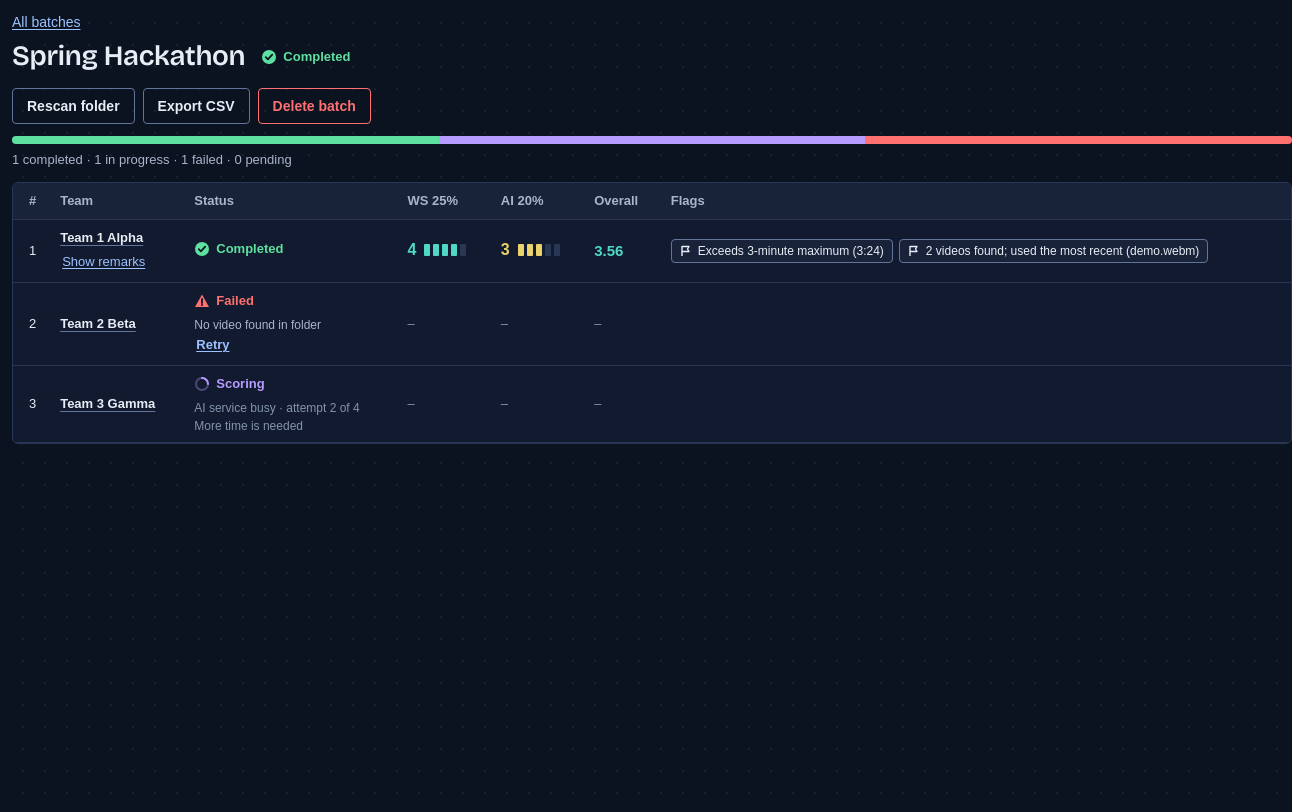
Test: S-3 batch controls (RSM-02, RSM-03, RSM-04, TBL-04) › should_show_rescan_results_and_errors
Click the button "Rescan folder" at (73, 106), box x1=12 y1=88 x2=135 y2=124
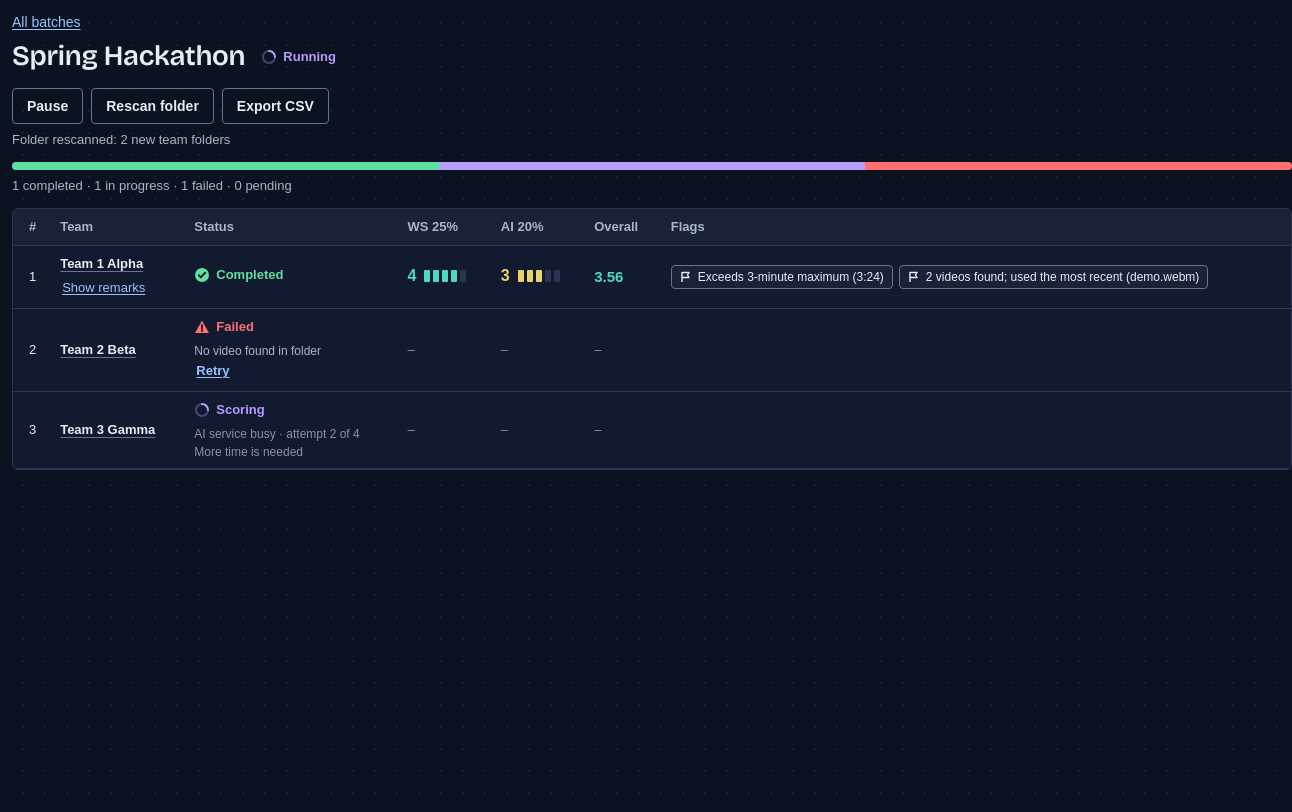
Expected: the text "Folder rescanned: 2 new team folders" is shown, x1=12 y1=132 x2=230 y2=147
Click the button "Rescan folder" at (153, 106), box x1=91 y1=88 x2=214 y2=124
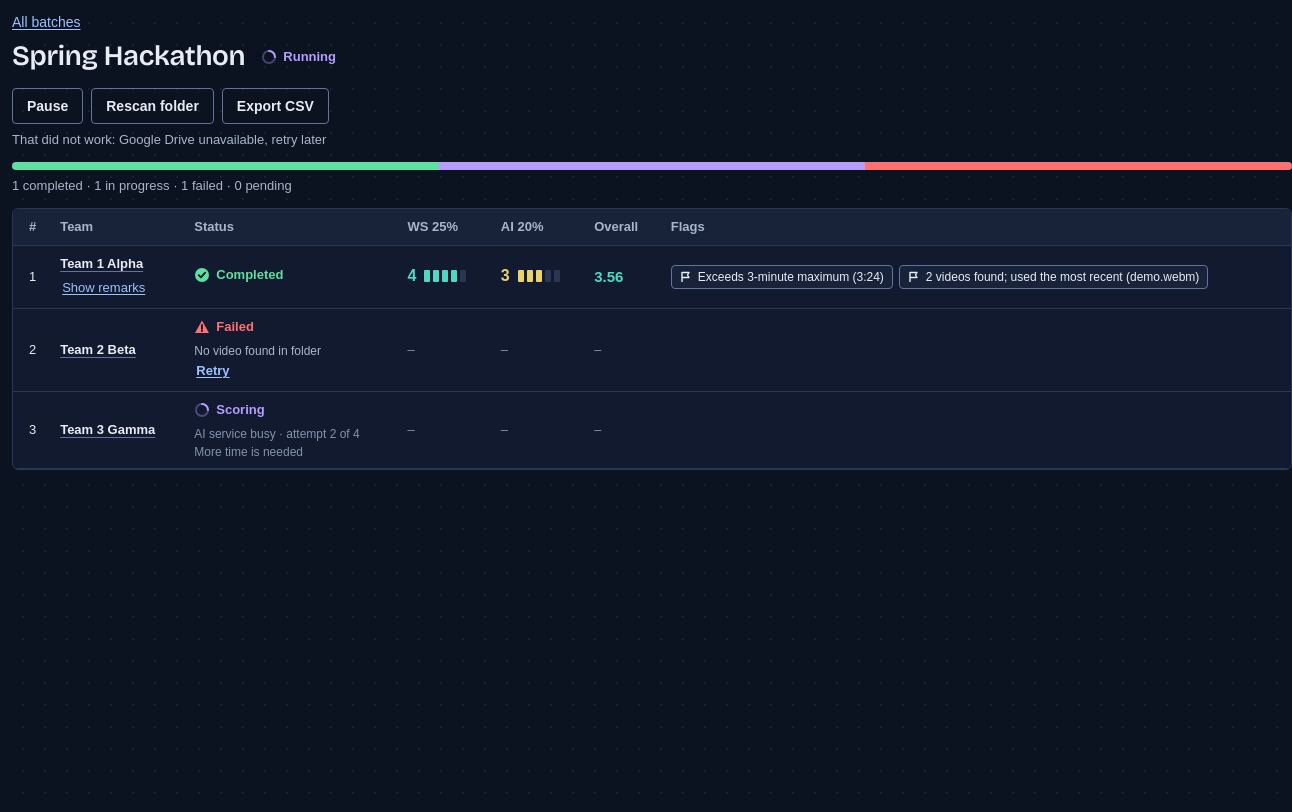
Expected: the text "That did not work: Google Drive unavailable, retry later" is shown, x1=12 y1=132 x2=326 y2=147
